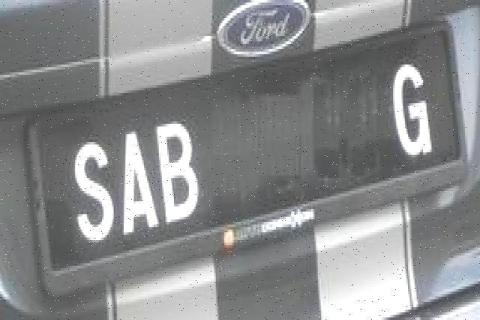LicensePlate: (20, 6, 473, 308)
